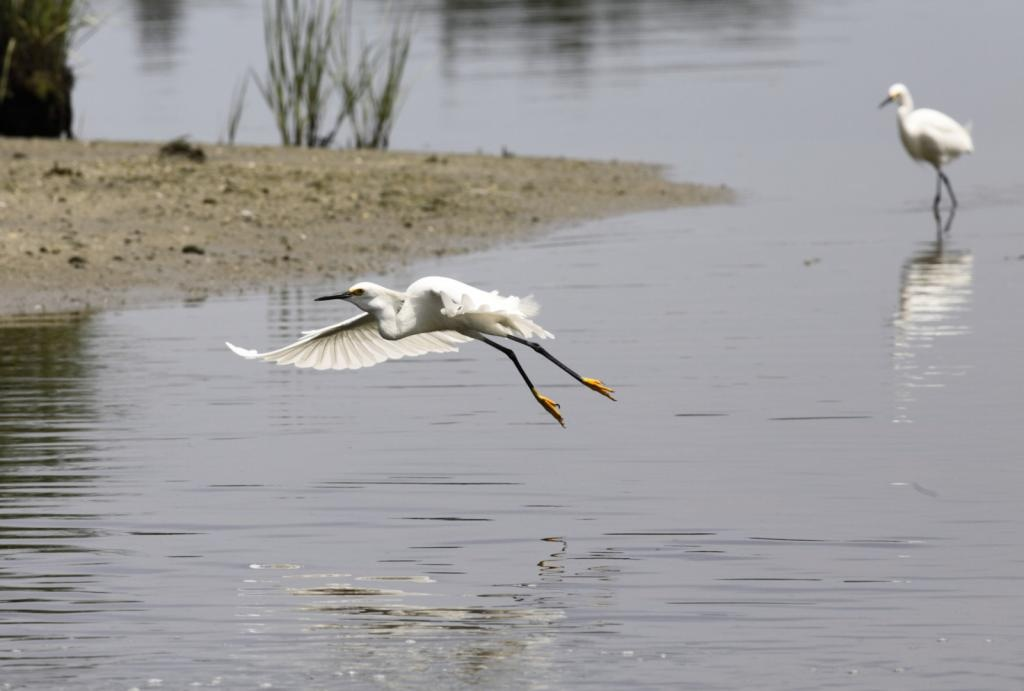bird: (221, 268, 619, 425), (874, 79, 981, 227)
